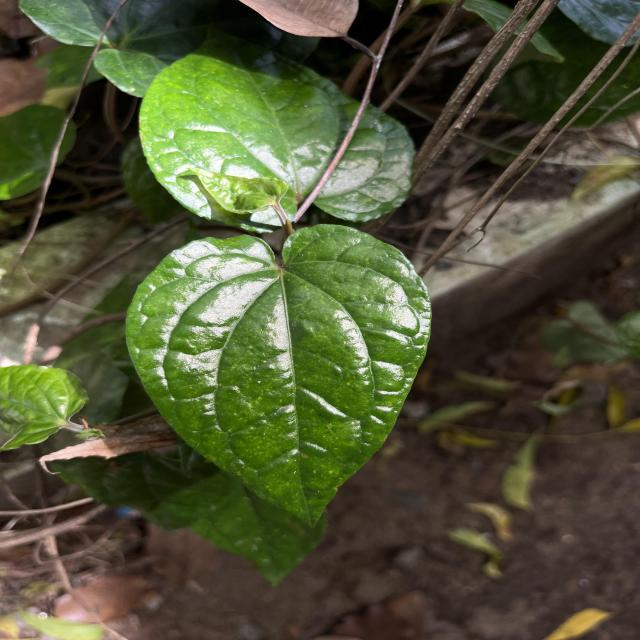Piper betle: (120, 219, 436, 532)
